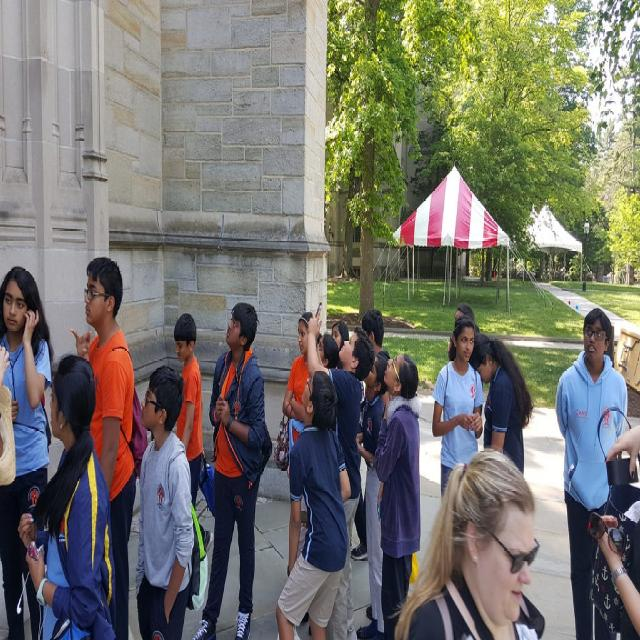body: (64, 249, 150, 639), (391, 445, 545, 640), (20, 350, 123, 639), (190, 299, 273, 639), (551, 303, 630, 639), (302, 309, 377, 639), (272, 367, 354, 639), (0, 261, 58, 639), (135, 363, 210, 640), (576, 400, 640, 640), (371, 349, 423, 639), (431, 313, 486, 511), (171, 311, 215, 556), (355, 346, 391, 640), (466, 331, 534, 478), (281, 309, 323, 444), (0, 340, 20, 522), (360, 306, 390, 414), (444, 301, 482, 363), (317, 333, 340, 370), (331, 319, 350, 351), (492, 262, 496, 280)
